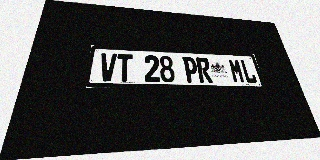2: (144, 55, 160, 82)
8: (159, 56, 175, 82)
L: (239, 59, 258, 83)
M: (228, 59, 246, 83)
P: (182, 57, 199, 83)
R: (196, 57, 213, 83)
T: (116, 54, 133, 82)
V: (99, 53, 117, 82)
